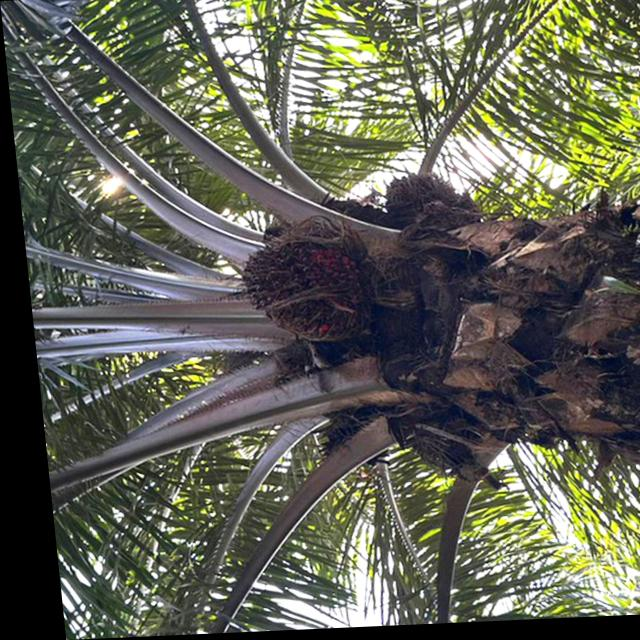ripe: (221, 220, 375, 357)
